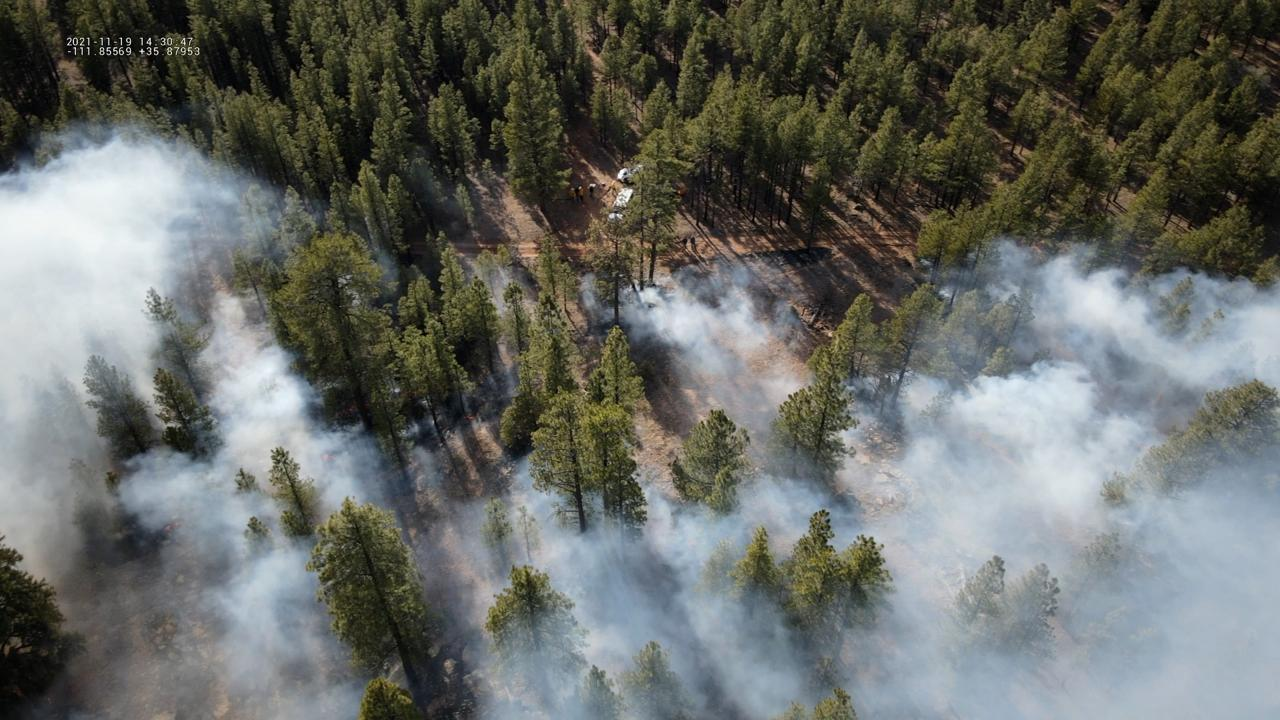fire: (319, 454, 337, 463), (462, 415, 475, 421), (675, 190, 682, 196)
smoke: (0, 112, 1280, 720)
